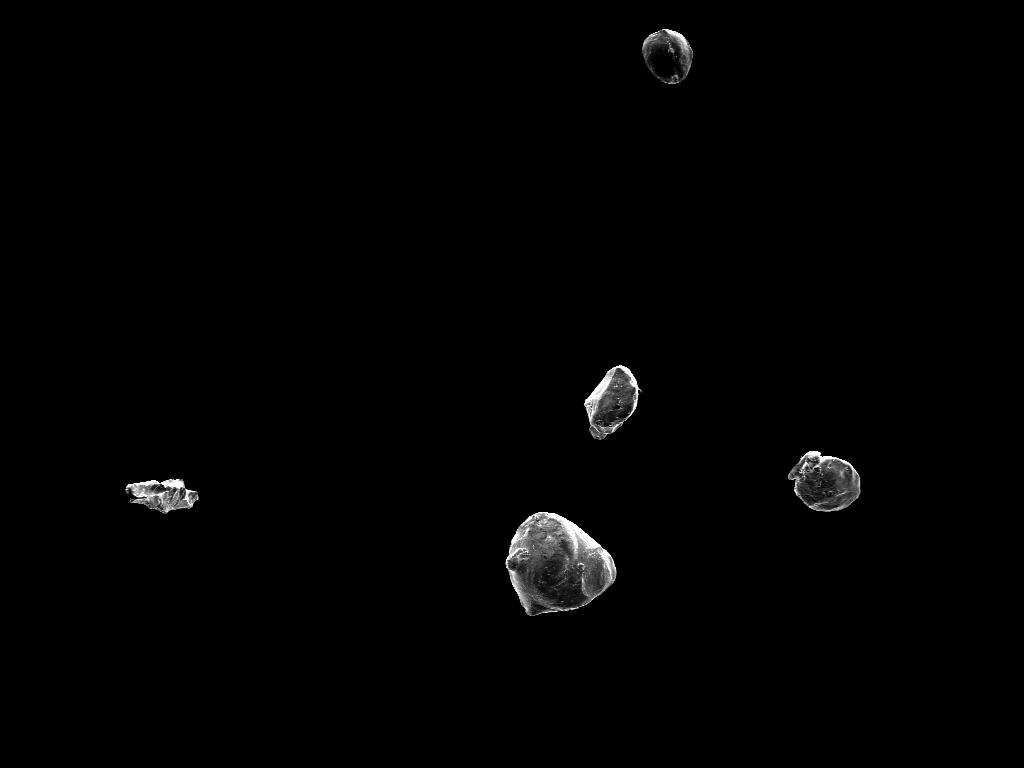Powder: (506, 512, 616, 615), (788, 452, 860, 511), (584, 366, 638, 439), (642, 30, 692, 84), (126, 480, 198, 513)
